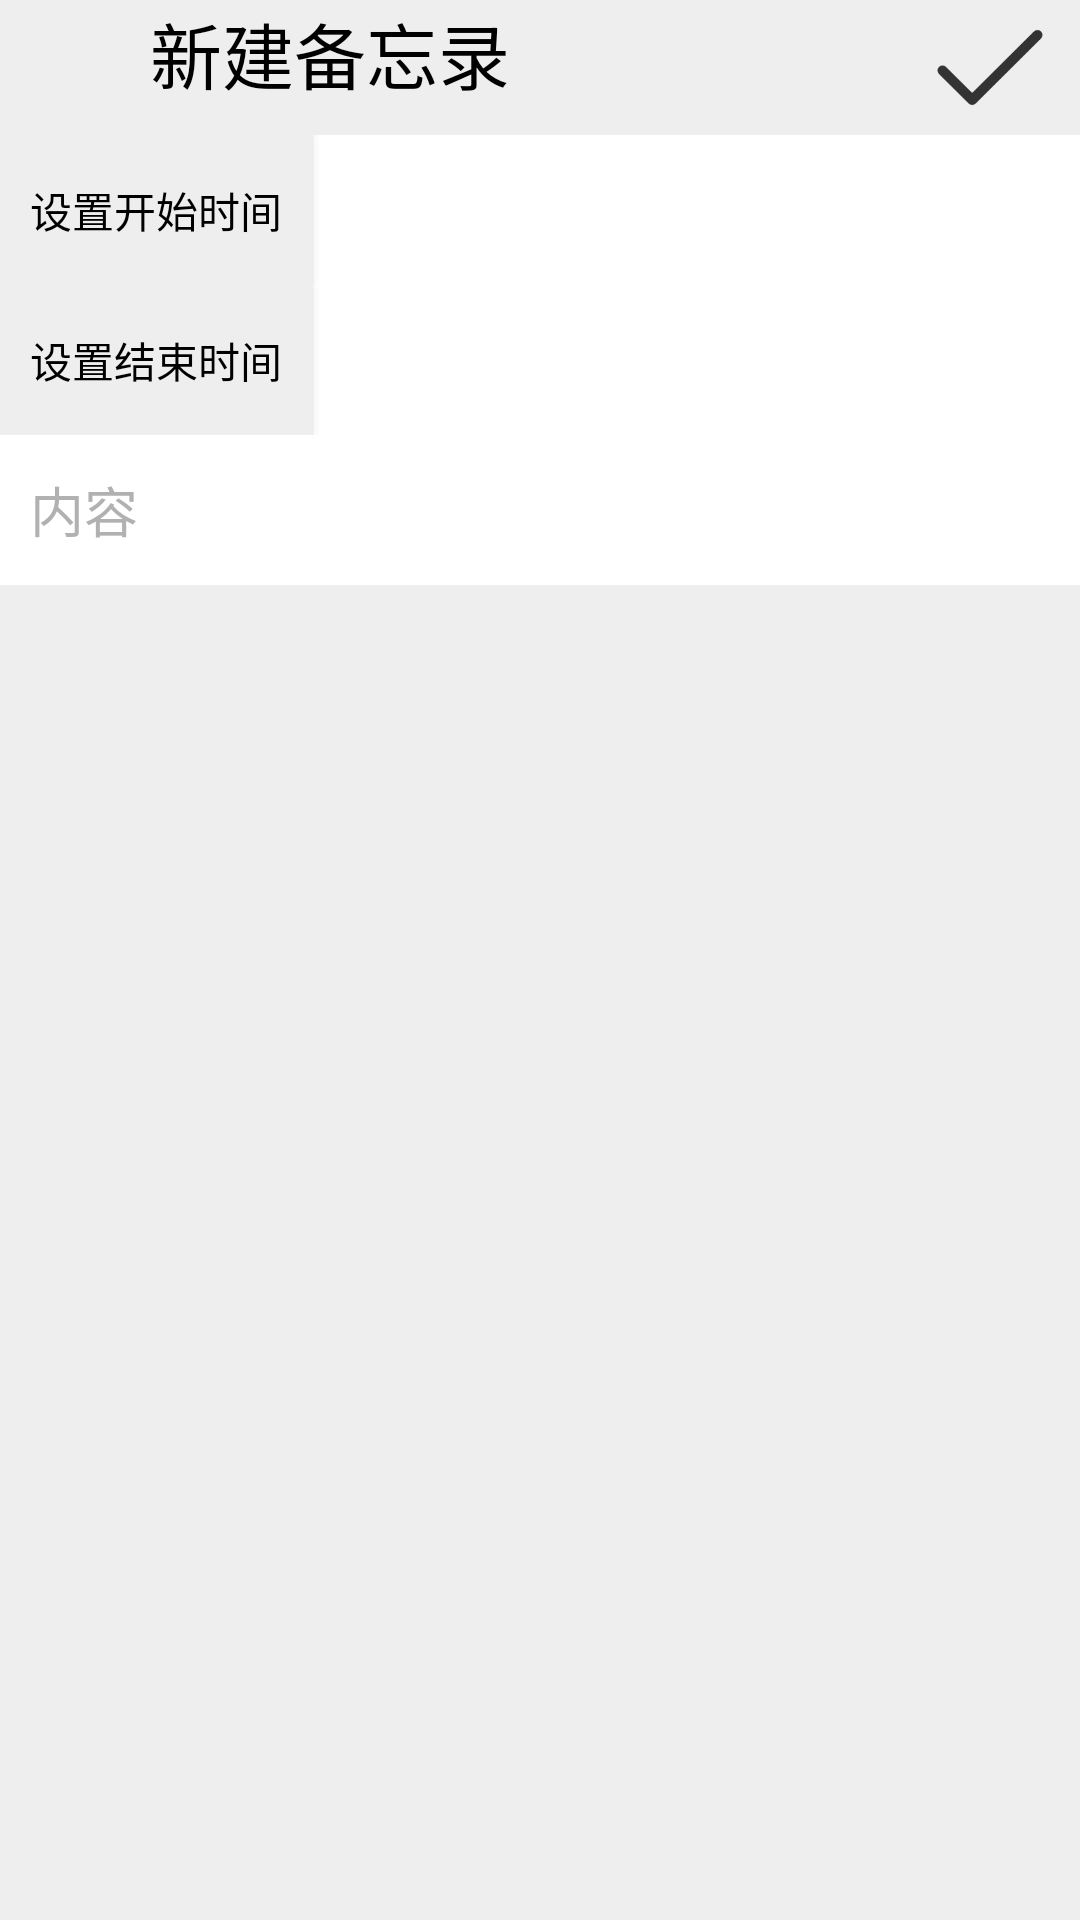

Screen size 1080 × 1920. Icon name, then its box in pixels as (x1, y1, x2, y2):
完成: (937, 30, 1043, 105)
